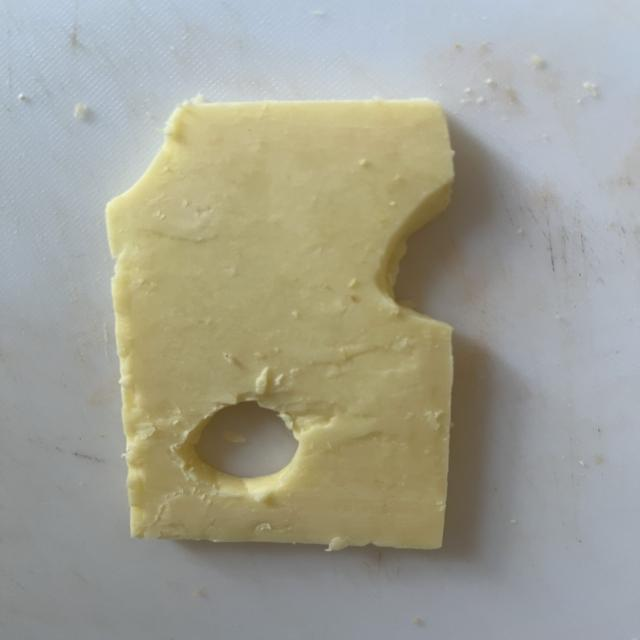cheese: (107, 99, 452, 549)
